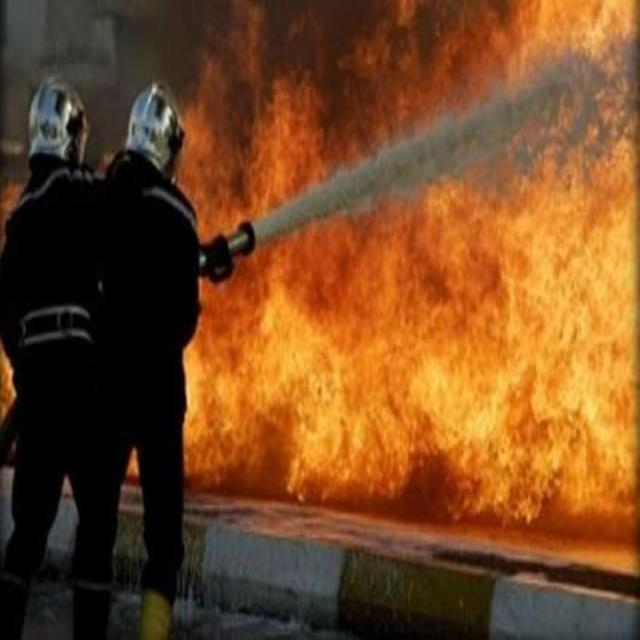Fire: (184, 50, 640, 578)
